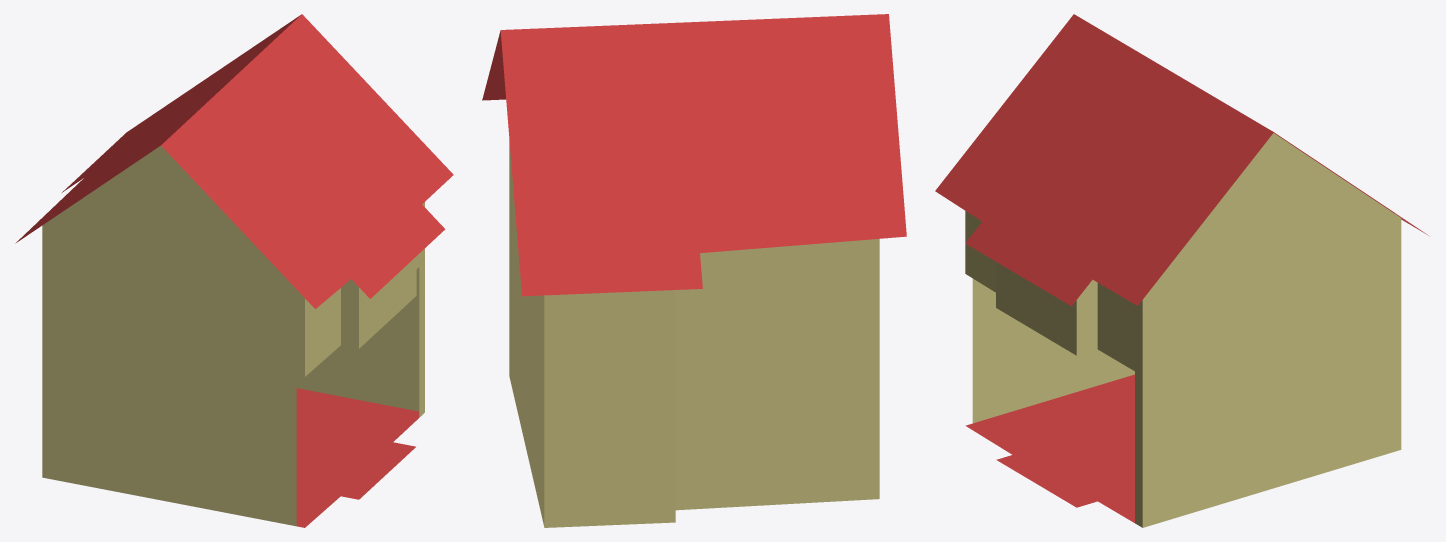
3 renders of one model, left to right at view 1: azimuth 30°, elevation 25°; view 2: azimuth 150°, elevation 25°; view 3: azimuth 270°, elevation 25°, orthographic. The views are drawn at different scales.
Size of the model in its own units: 16.08 by 16.94 by 13.82.
